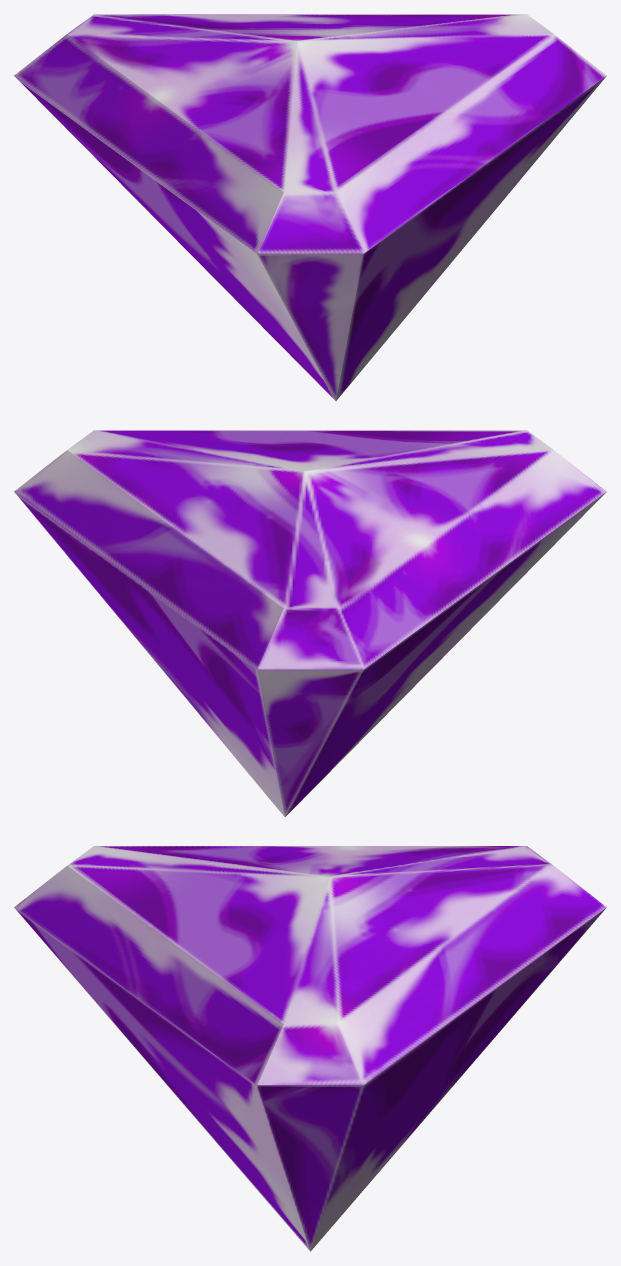
File: stone_purple_001.fbx
3 views of the same model, one above another, from view 1: azimuth 30°, elevation 25°; view 2: azimuth 150°, elevation 25°; view 3: azimuth 270°, elevation 25° (orthographic).
Parts seen in each view (by area): view 1: stone; view 2: stone; view 3: stone.
Boxes of the visible parts, x1,y1,x2,y2 form: stone: (14, 14, 606, 400); stone: (14, 430, 606, 816); stone: (14, 846, 606, 1251).
Bounding box in the file's own units: 5.67 × 4.39 × 6.55.
